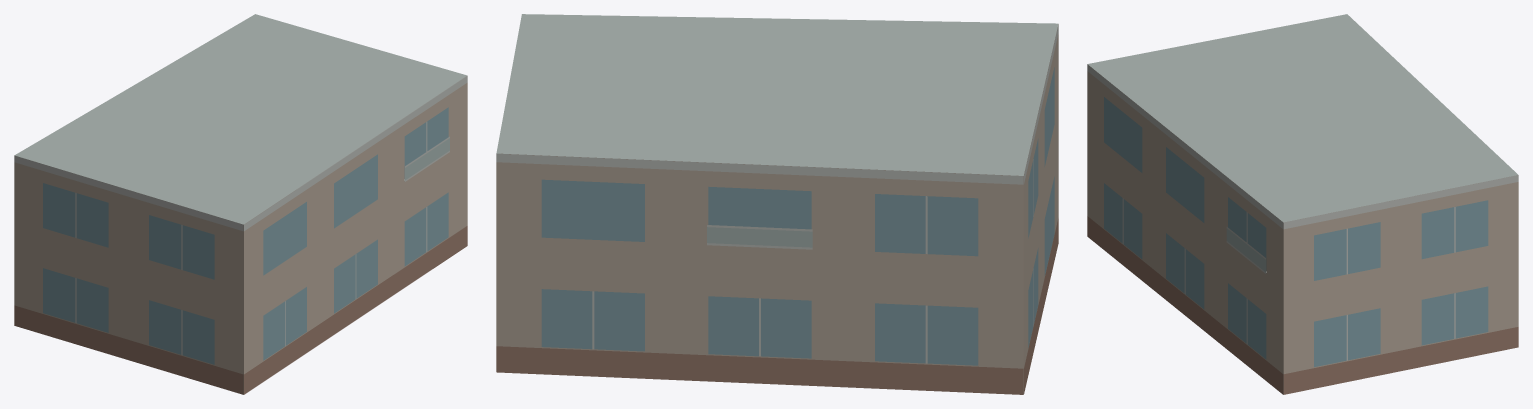
File: survey-upis-32486869.glb
The picture shows the model from 3 angles, left to right: view 1: azimuth 30°, elevation 25°; view 2: azimuth 150°, elevation 25°; view 3: azimuth 270°, elevation 25°; orthographic projection. The views are drawn at different scales.
Parts seen in each view (by area): view 1: survey-upis-32486869.tmp; view 2: survey-upis-32486869.tmp; view 3: survey-upis-32486869.tmp.
Boxes of the visible parts, x1,y1,x2,y2 form: survey-upis-32486869.tmp: (14, 14, 467, 394); survey-upis-32486869.tmp: (496, 14, 1058, 394); survey-upis-32486869.tmp: (1087, 14, 1518, 394).
Bounding box in the file's own units: 15.83 × 6.1 × 13.84.
